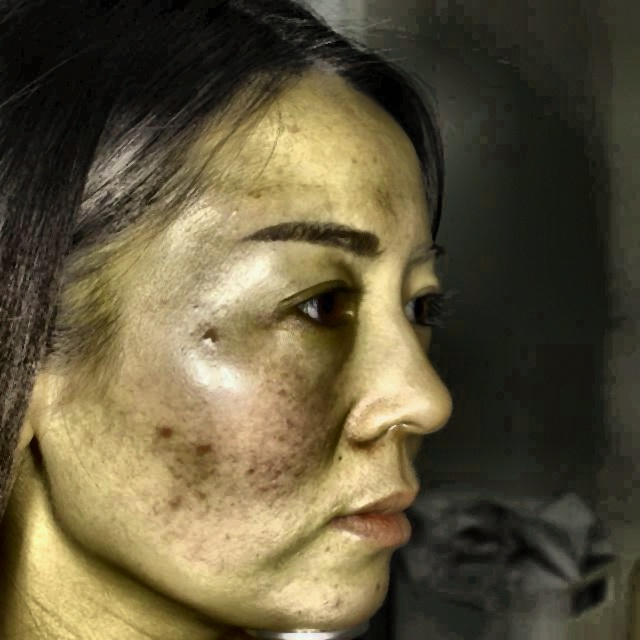comedone: (140, 420, 183, 456), (186, 441, 228, 469)
